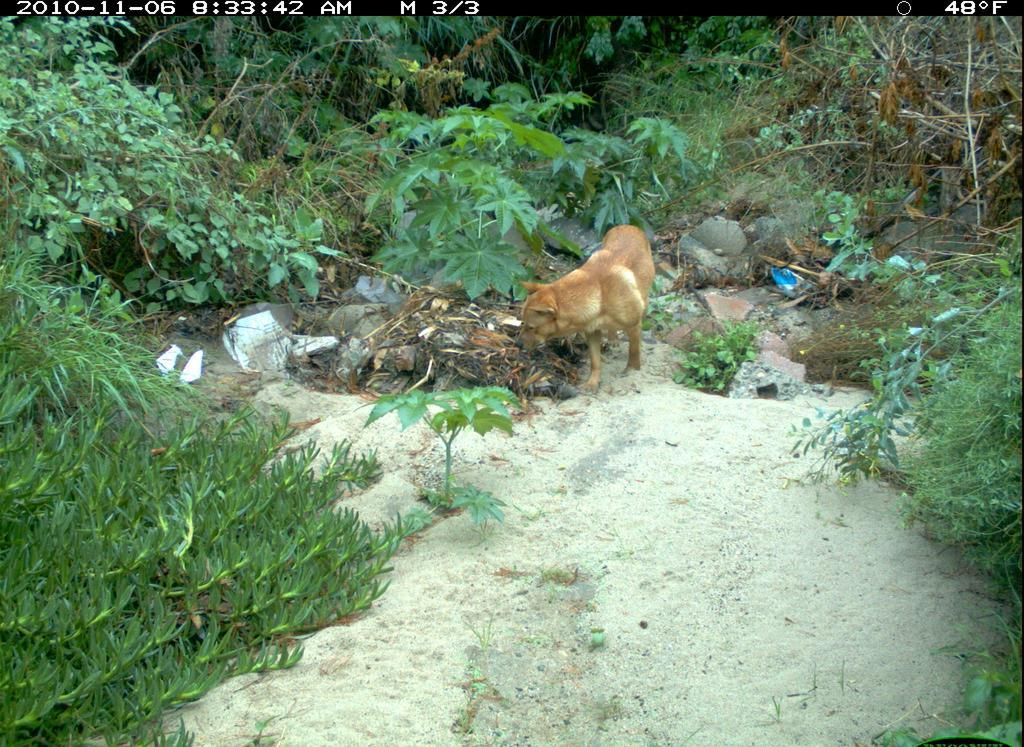dog: (508, 221, 660, 401)
